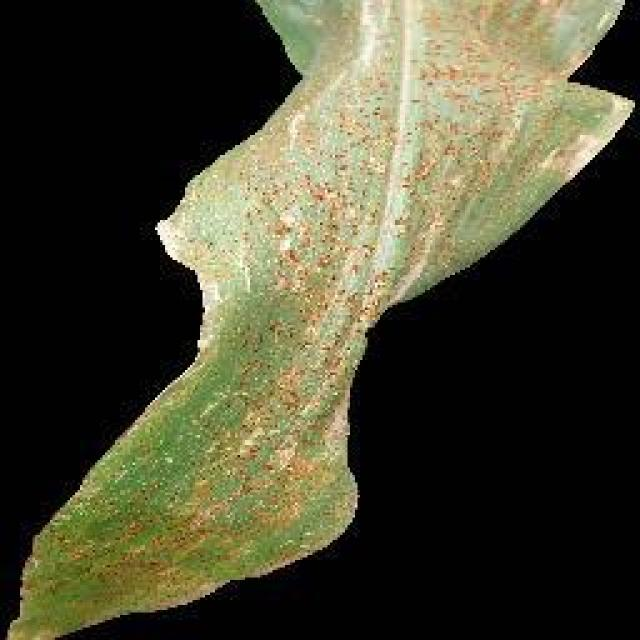Corn Common Rust: (105, 117, 540, 570)
